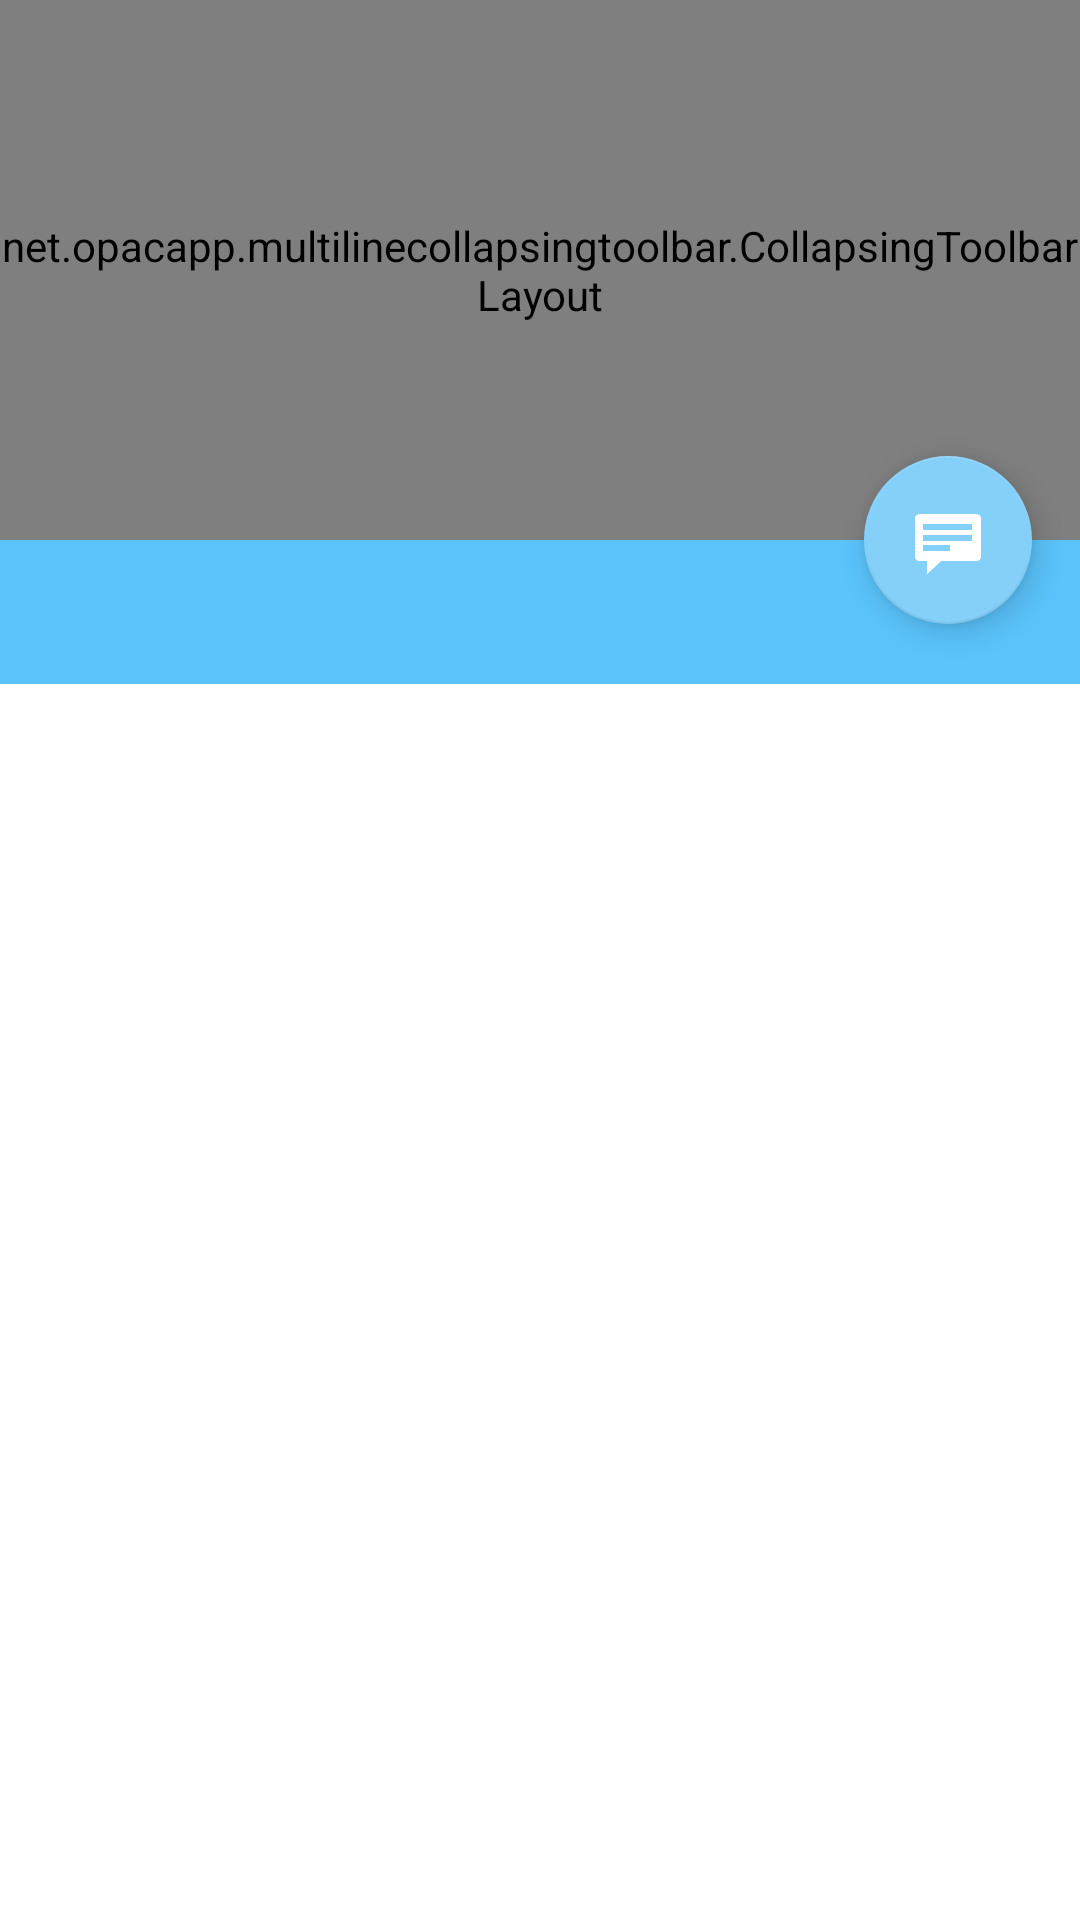

Named icons in this screenshot (1080x1920) and their centers, (x,y):
chat: (948,540)
